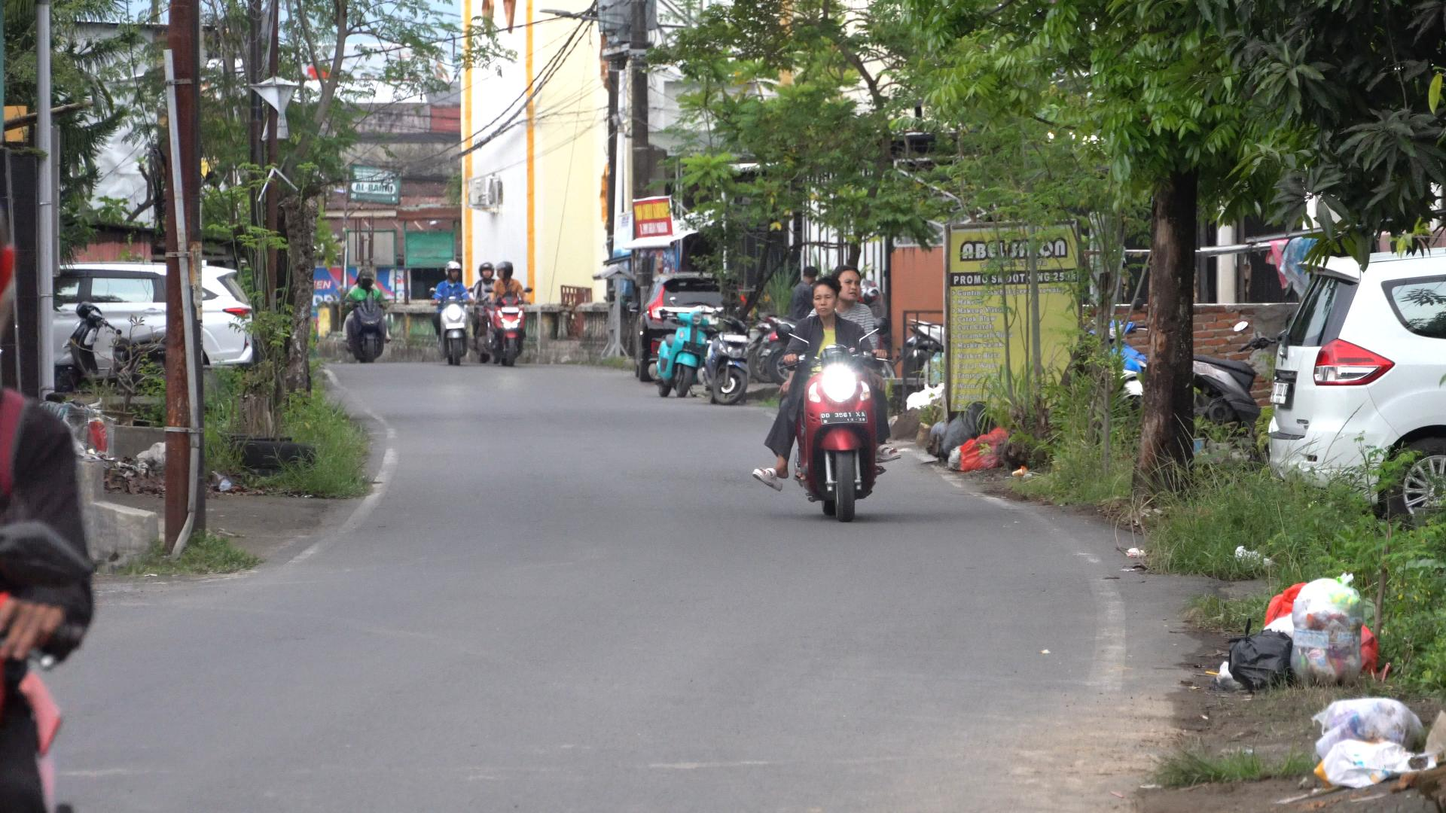number-plate: (819, 405, 866, 430)
